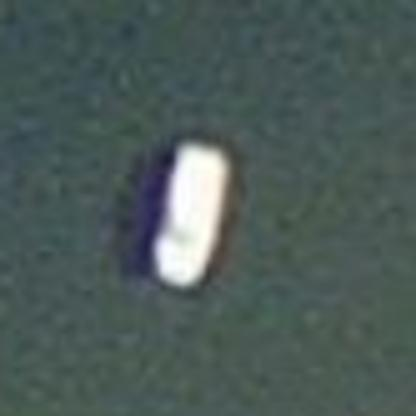ship: (112, 127, 265, 304)
